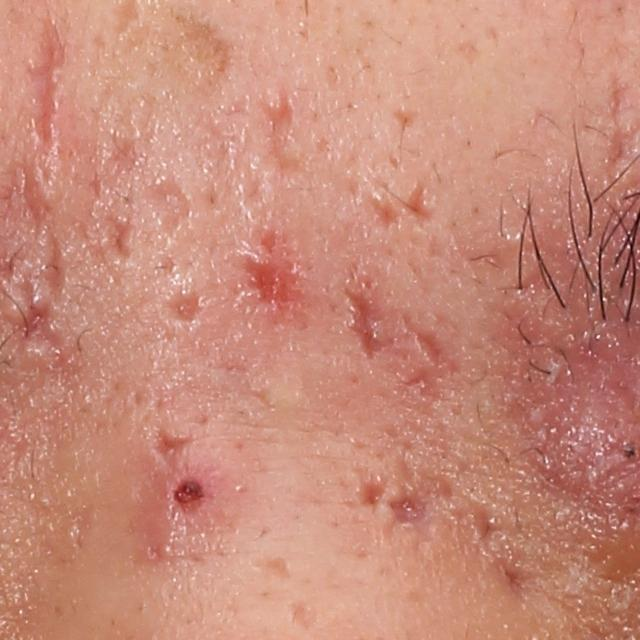atrophic_scar: (7, 272, 83, 377), (239, 228, 307, 324), (399, 311, 465, 407), (31, 4, 64, 160), (256, 88, 310, 175), (16, 157, 63, 232), (342, 286, 380, 365), (144, 175, 191, 237), (467, 495, 508, 559), (386, 486, 439, 528), (161, 289, 207, 332), (400, 175, 438, 227), (41, 235, 68, 307), (239, 552, 295, 584), (148, 423, 193, 459), (288, 594, 328, 633), (351, 475, 393, 511), (107, 214, 136, 264), (369, 192, 399, 236), (452, 38, 485, 68), (389, 106, 420, 130)
papule: (141, 459, 237, 547)
